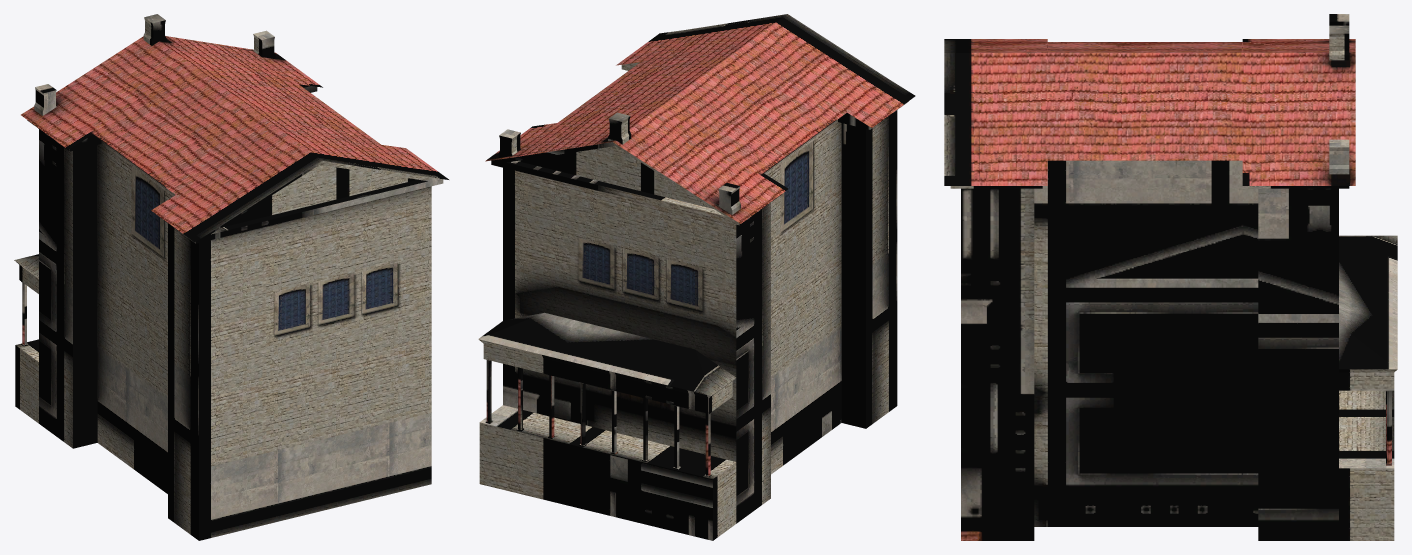
3 views of the same model, side by side, from view 1: azimuth 30°, elevation 25°; view 2: azimuth 150°, elevation 25°; view 3: azimuth 270°, elevation 25° (orthographic). The views are drawn at different scales.
Parts seen in each view (by area): view 1: Mesh.001_curia_curia; view 2: Mesh.001_curia_curia; view 3: Mesh.001_curia_curia.
Boxes of the visible parts, x1=… form: Mesh.001_curia_curia: x1=14, y1=14, x2=448, y2=540; Mesh.001_curia_curia: x1=478, y1=14, x2=915, y2=540; Mesh.001_curia_curia: x1=944, y1=14, x2=1397, y2=540.
Bounding box in the file's own units: 4.79 × 6.75 × 6.24.
